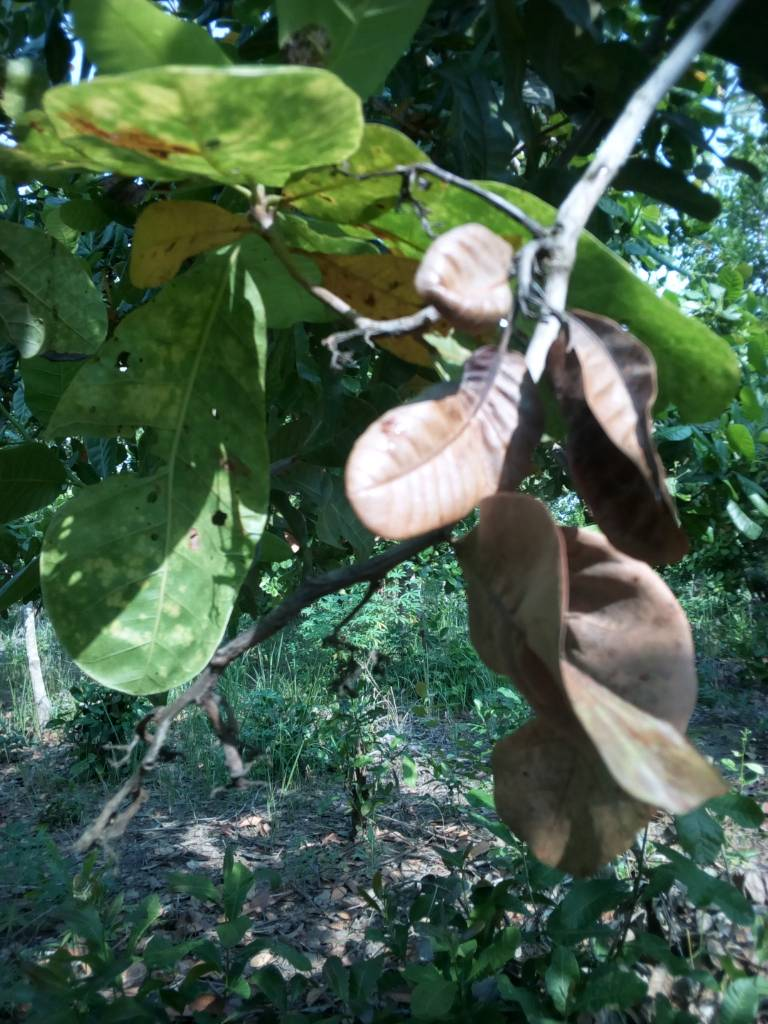Dessèchement des bourgeons: (302, 312, 485, 395)
